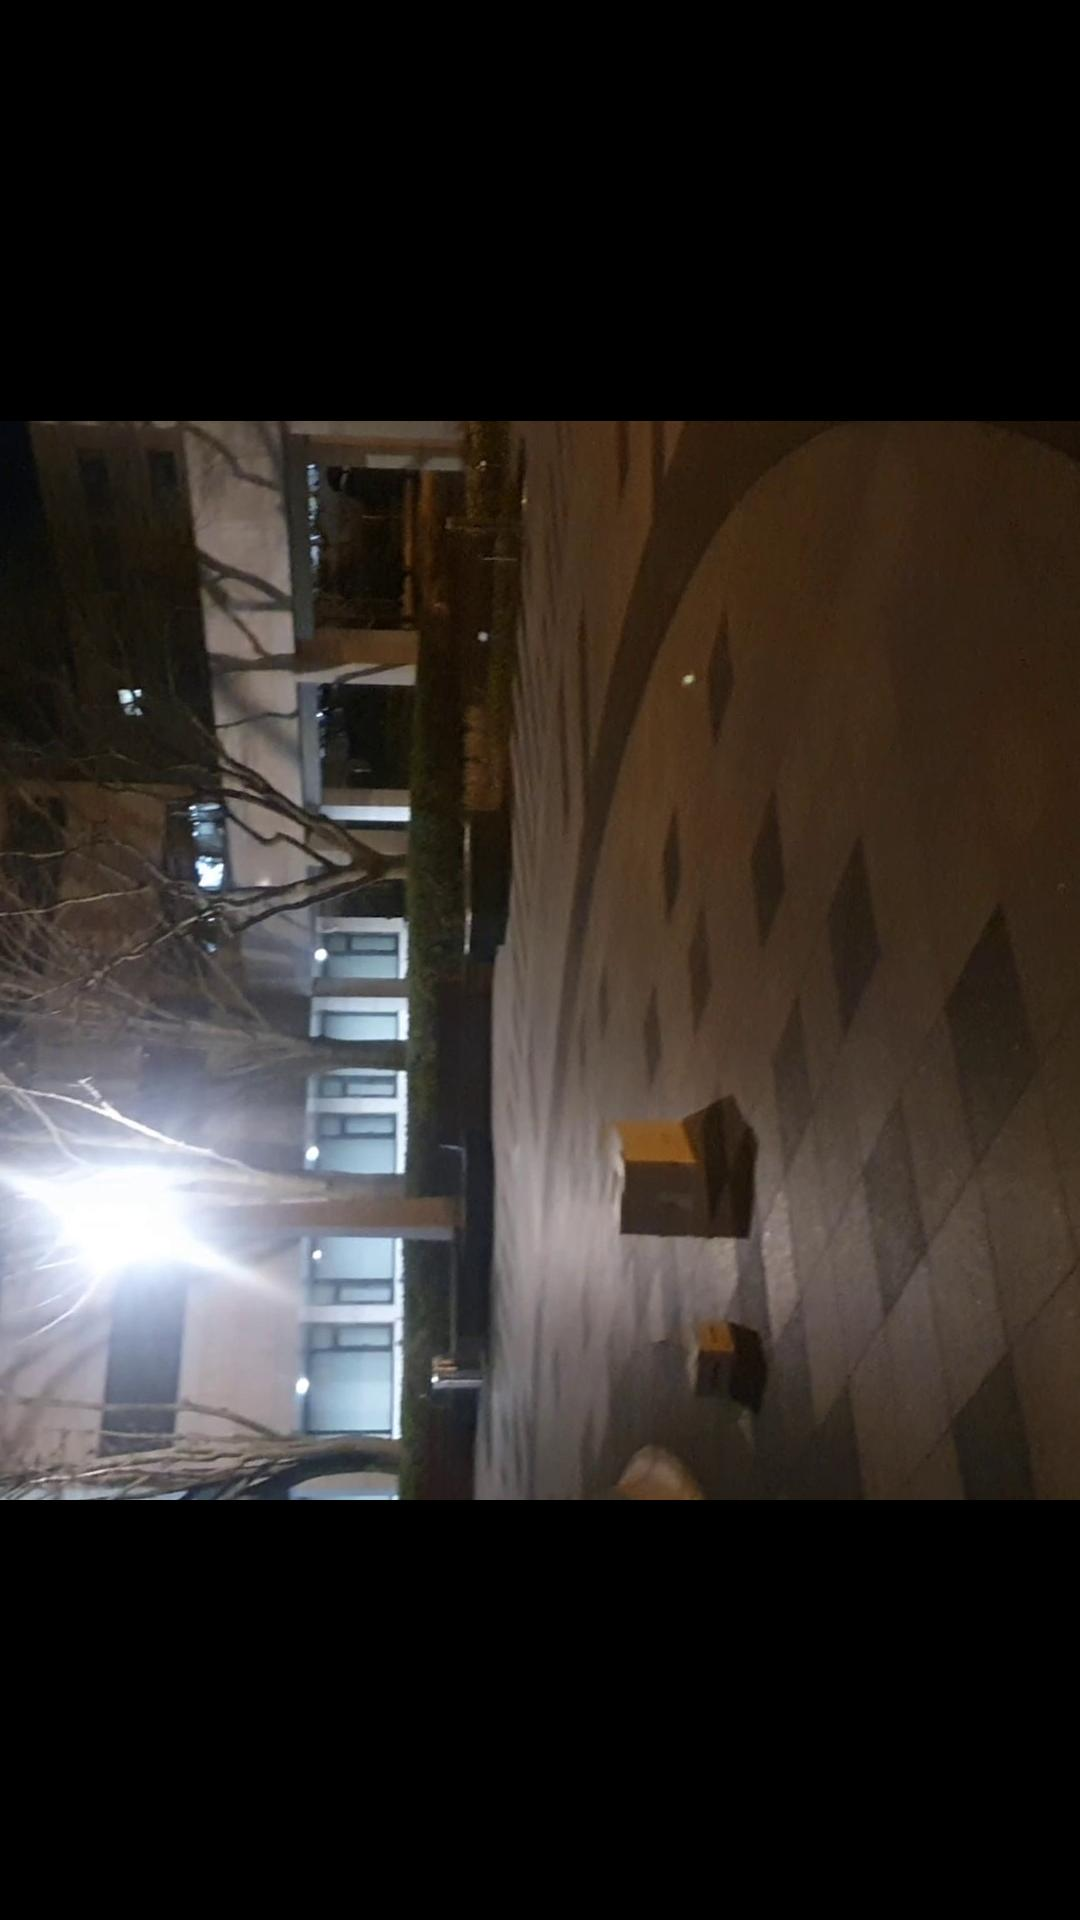Box: (600, 1113, 720, 1242), (684, 1315, 746, 1394)
